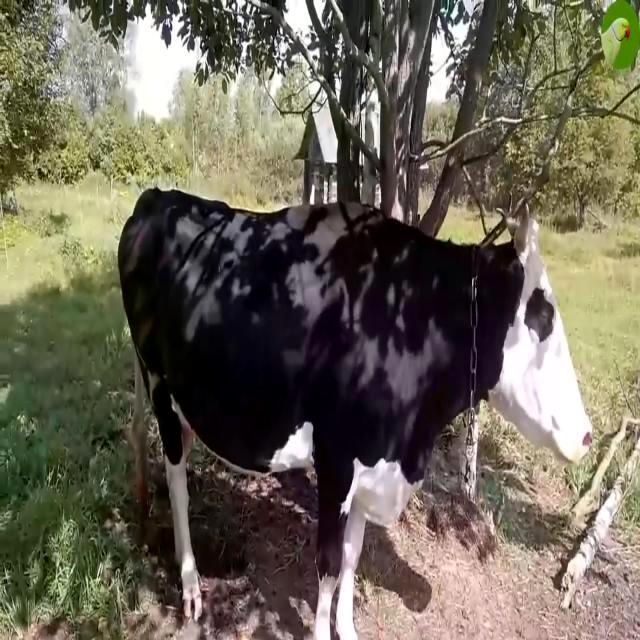COW: (119, 190, 592, 639)
